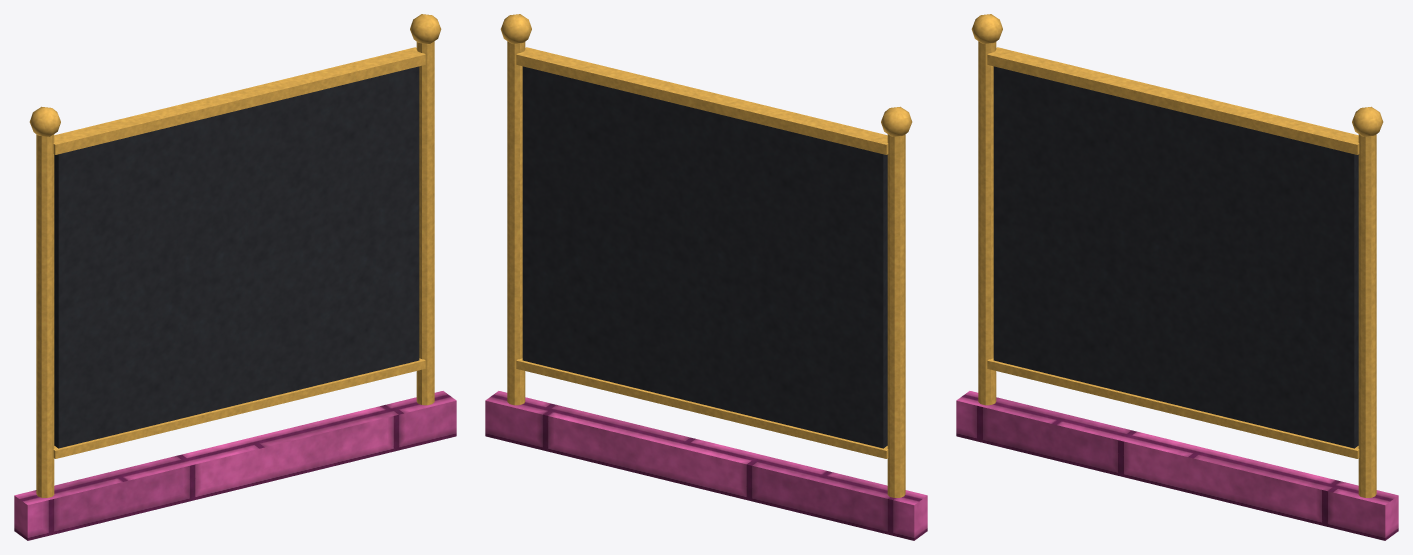
The model's file is dun_board.glb.
3 renders of one model, left to right at view 1: azimuth 30°, elevation 25°; view 2: azimuth 150°, elevation 25°; view 3: azimuth 330°, elevation 25°, orthographic.
Visible parts, largest first — view 1: dun_board_slate_0, dun_board_gold_0, dun_board_pinkstone_0; view 2: dun_board_slate_0, dun_board_gold_0, dun_board_pinkstone_0; view 3: dun_board_slate_0, dun_board_gold_0, dun_board_pinkstone_0.
Boxes of the visible parts, bbox=[...] form: dun_board_slate_0: bbox=[54, 66, 419, 448]; dun_board_gold_0: bbox=[29, 14, 441, 497]; dun_board_pinkstone_0: bbox=[14, 391, 456, 540]; dun_board_slate_0: bbox=[522, 66, 887, 448]; dun_board_gold_0: bbox=[500, 14, 912, 497]; dun_board_pinkstone_0: bbox=[485, 391, 927, 540]; dun_board_slate_0: bbox=[993, 66, 1358, 448]; dun_board_gold_0: bbox=[971, 14, 1383, 497]; dun_board_pinkstone_0: bbox=[956, 391, 1398, 540].
Bounding box in the file's own units: 4.4 × 4.14 × 0.28.
3 materials, 3 textured.
